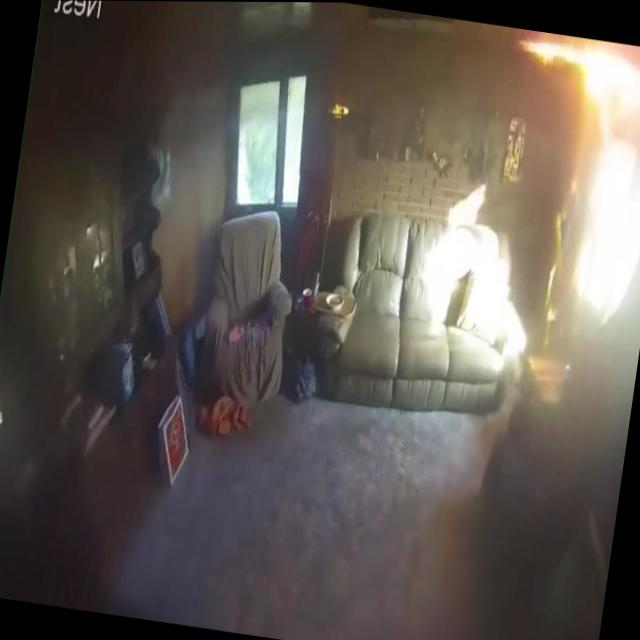fire: (514, 29, 640, 119), (534, 142, 589, 346)
